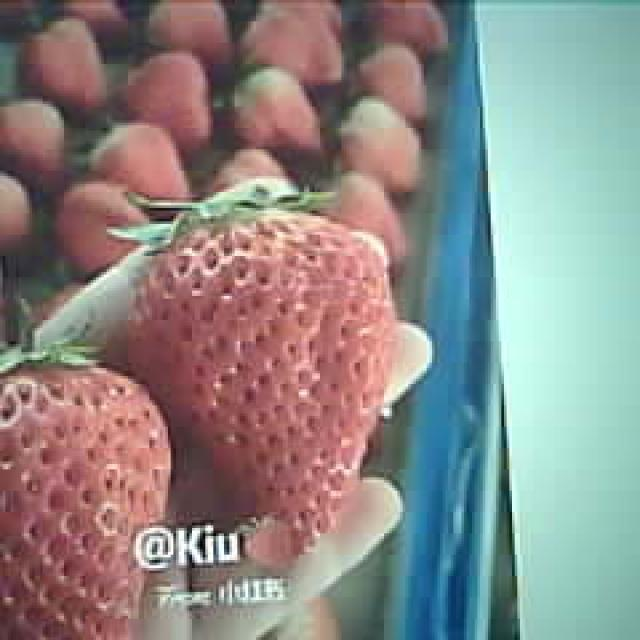strawberry: (135, 208, 398, 544), (1, 345, 170, 640)
